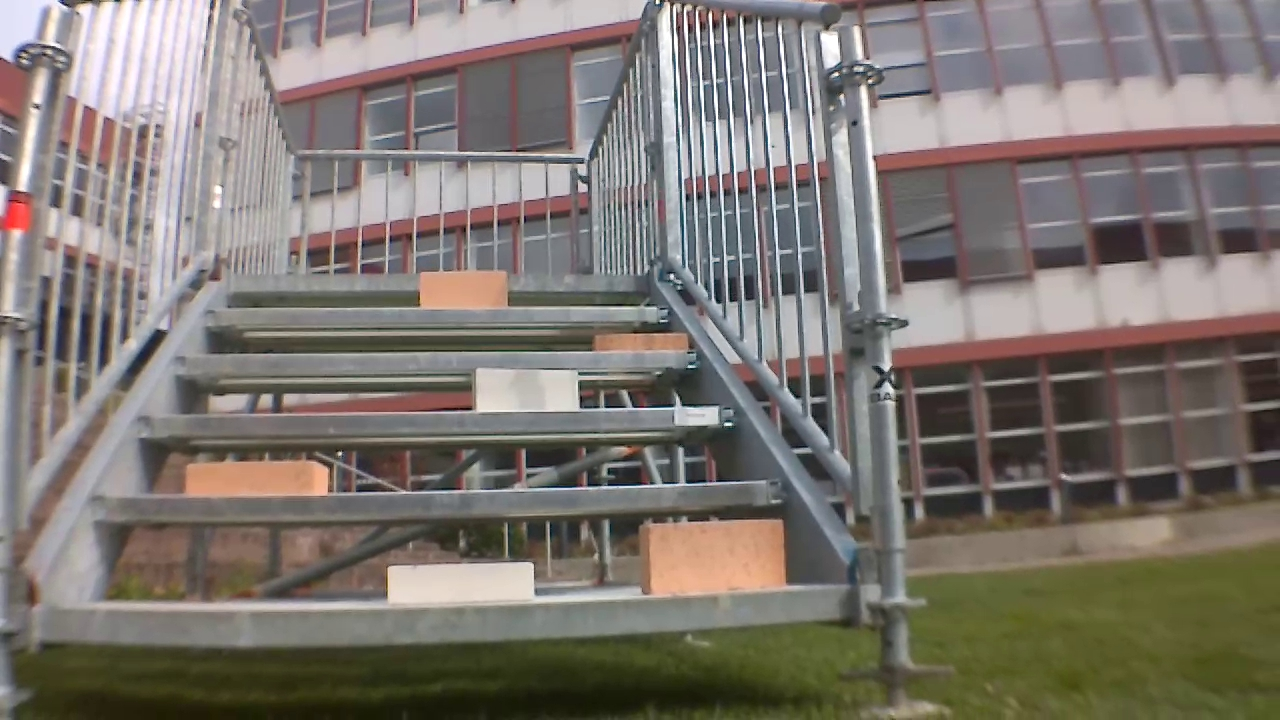brick: (642, 515, 788, 594), (384, 559, 542, 602), (183, 459, 333, 495), (470, 370, 579, 412), (415, 268, 511, 309), (589, 326, 691, 353)
edge: (45, 592, 857, 641), (92, 482, 789, 520), (132, 405, 739, 445), (179, 345, 703, 382), (199, 304, 676, 330), (230, 271, 651, 290)
stairs: (16, 8, 908, 669)
steps: (30, 268, 853, 650)
